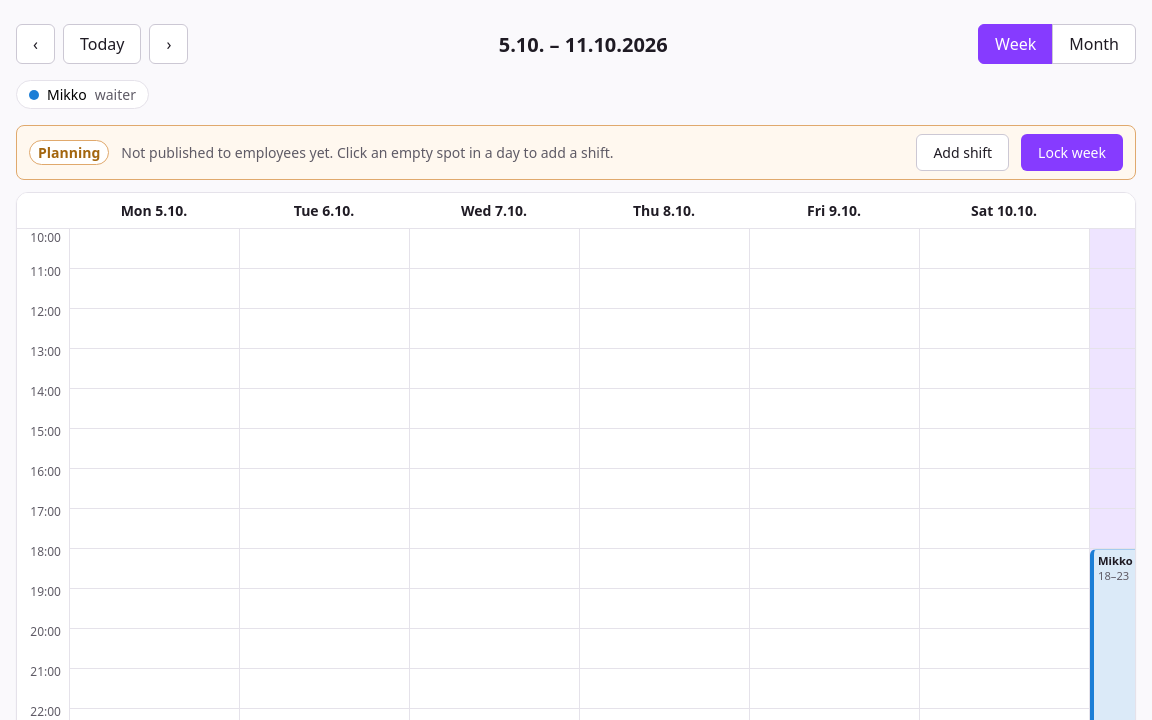
locking the week publishes it and stops editing
Click the button "Lock week" at (1072, 152), box 1021,134 -> 1123,171
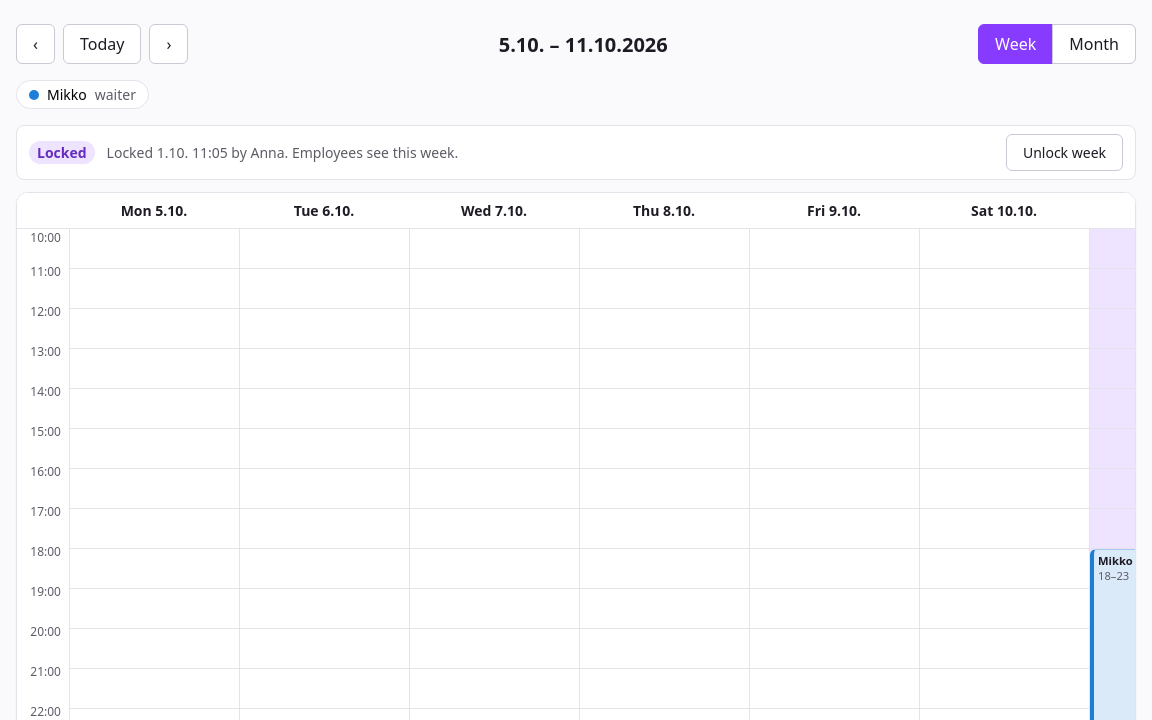
expect the button "Unlock week" is shown: met, box 1006,134 -> 1123,171
